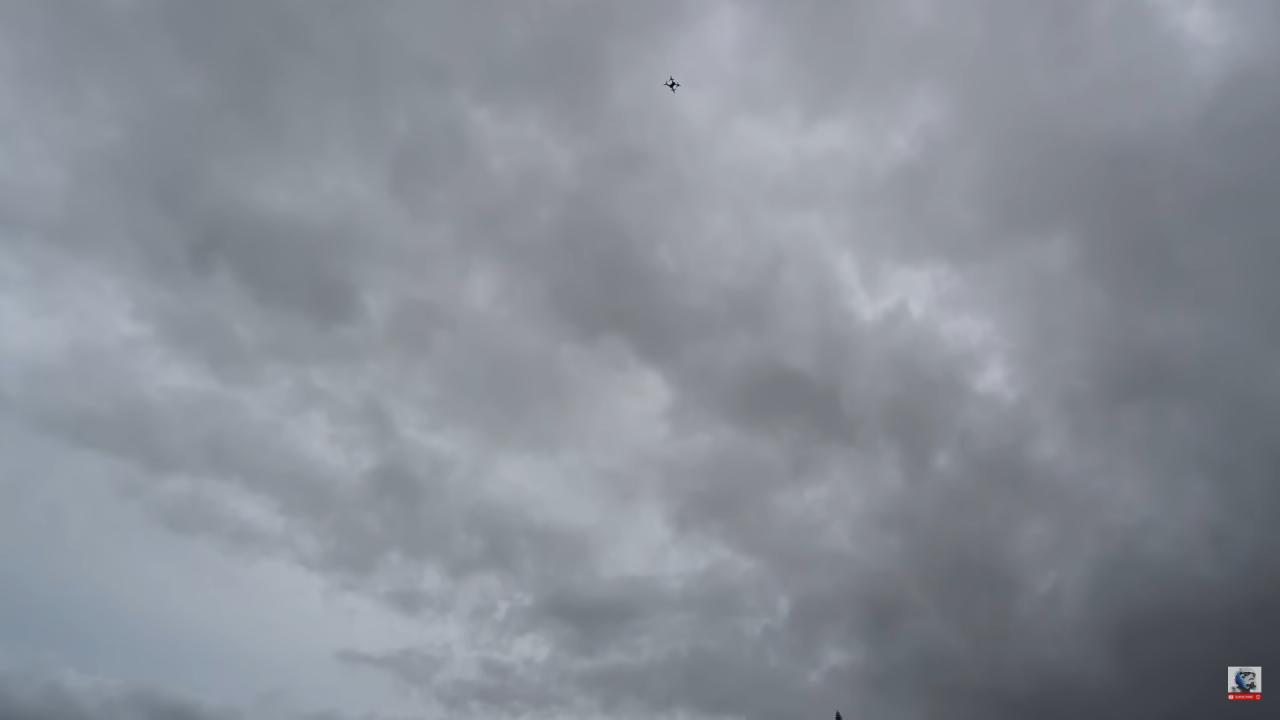Drone: (657, 70, 687, 98)
